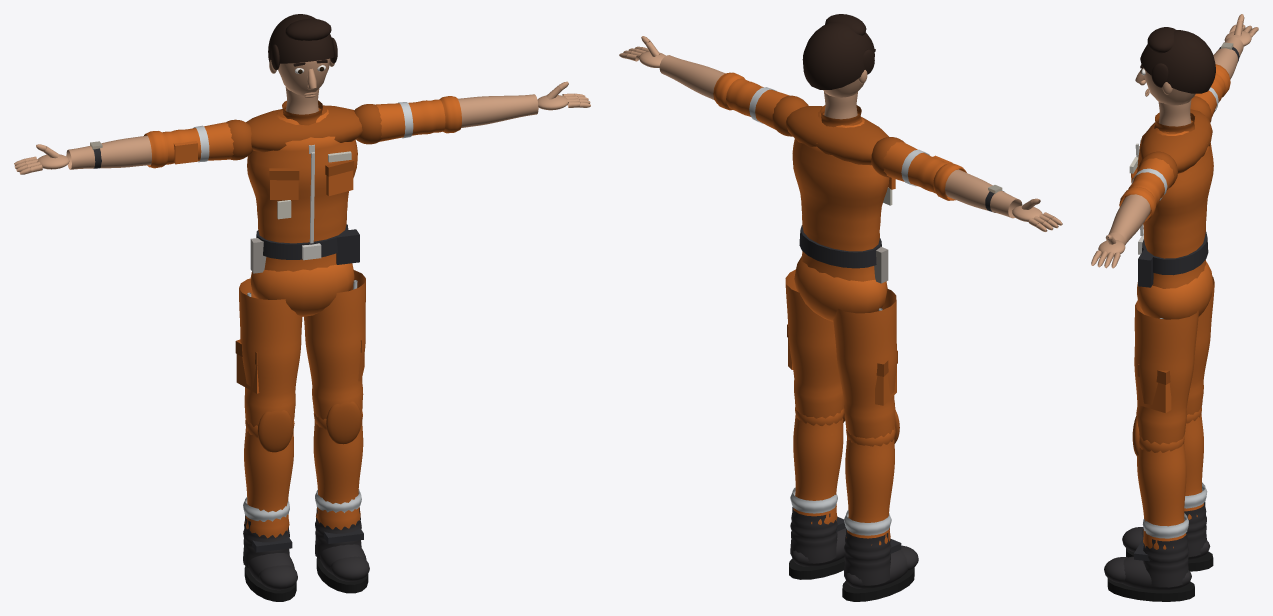
Rendered from C03_colonist_indoor_orange.glb.
3 views of the same model, side by side, from view 1: azimuth 30°, elevation 25°; view 2: azimuth 150°, elevation 25°; view 3: azimuth 270°, elevation 25° (orthographic). The views are drawn at different scales.
Visible parts, largest first — view 1: thigh, boot_strap, knee_patch, boot_shaft, boot_sole, ankle_stripe, pocket_snap; view 2: thigh, boot_strap, boot_shaft, knee_patch, boot_sole, ankle_stripe; view 3: thigh, boot_strap, boot_shaft, knee_patch, boot_sole, ankle_stripe.
Boxes of the visible parts, x1,y1,x2,y2 form: thigh: [144, 96, 461, 538]; boot_strap: [14, 14, 590, 552]; knee_patch: [226, 100, 381, 452]; boot_shaft: [243, 508, 369, 590]; boot_sole: [244, 151, 368, 601]; ankle_stripe: [193, 102, 413, 521]; pocket_snap: [302, 144, 321, 260]; thigh: [713, 72, 966, 545]; boot_strap: [619, 14, 1062, 553]; boot_shaft: [790, 507, 918, 589]; knee_patch: [772, 95, 904, 443]; boot_sole: [789, 187, 914, 601]; ankle_stripe: [749, 87, 929, 535]; thigh: [1119, 64, 1230, 549]; boot_strap: [1091, 14, 1258, 561]; boot_shaft: [1104, 502, 1210, 590]; knee_patch: [1131, 96, 1212, 456]; boot_sole: [1107, 157, 1213, 601]; ankle_stripe: [1131, 87, 1218, 538].
Bounding box in the file's own units: 1.71 × 1.81 × 0.5019.
